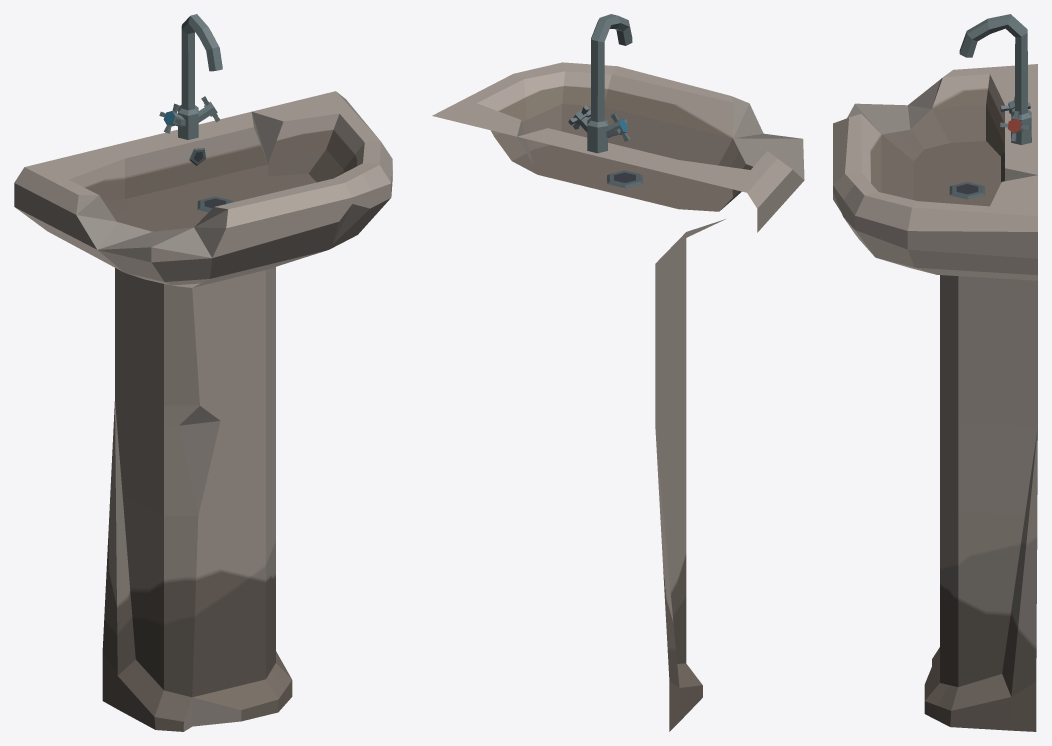
Rendered from SM_Wash_Basin.gltf.
3 views of the same model, side by side, from view 1: azimuth 30°, elevation 25°; view 2: azimuth 150°, elevation 25°; view 3: azimuth 270°, elevation 25° (orthographic).
Visible parts, largest first — view 1: SM_Wash_Basin; view 2: SM_Wash_Basin; view 3: SM_Wash_Basin.
Boxes of the visible parts, x1=… form: SM_Wash_Basin: x1=14, y1=14, x2=392, y2=731; SM_Wash_Basin: x1=432, y1=14, x2=804, y2=731; SM_Wash_Basin: x1=833, y1=14, x2=1037, y2=731.
Bounding box in the file's own units: 0.7368 × 1.43 × 0.3929.
1 material, 1 textured.
